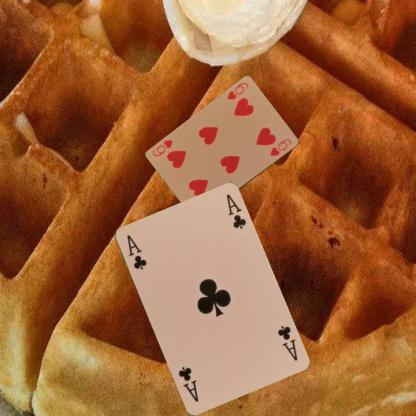6h: (224, 80, 250, 101)
Ac: (274, 322, 299, 362), (124, 232, 148, 271)
